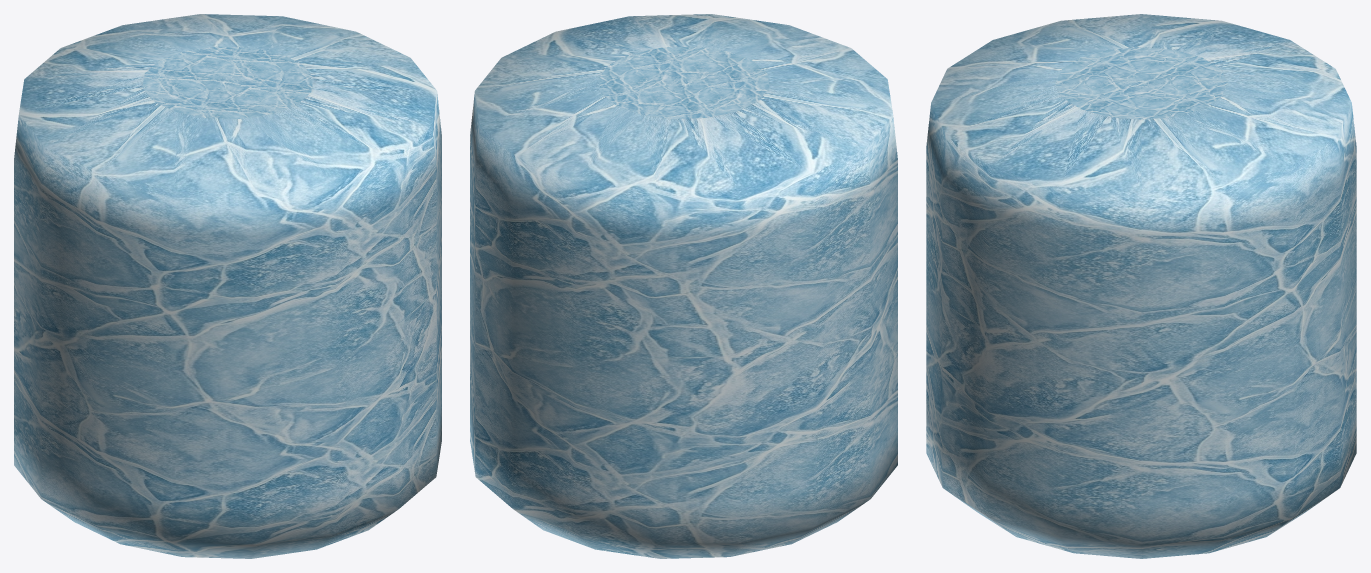
The model's file is IceJellyfishSoftSegment.obj.
3 renders of one model, left to right at view 1: azimuth 30°, elevation 25°; view 2: azimuth 150°, elevation 25°; view 3: azimuth 270°, elevation 25°, orthographic.
Visible parts, largest first — view 1: IceJellyfishSoftSegment; view 2: IceJellyfishSoftSegment; view 3: IceJellyfishSoftSegment.
Boxes of the visible parts, x1=… form: IceJellyfishSoftSegment: x1=14, y1=14, x2=441, y2=558; IceJellyfishSoftSegment: x1=470, y1=14, x2=897, y2=558; IceJellyfishSoftSegment: x1=926, y1=14, x2=1356, y2=558.
Bounding box in the file's own units: 0.9 × 0.975 × 0.9.
1 material, 1 textured.
